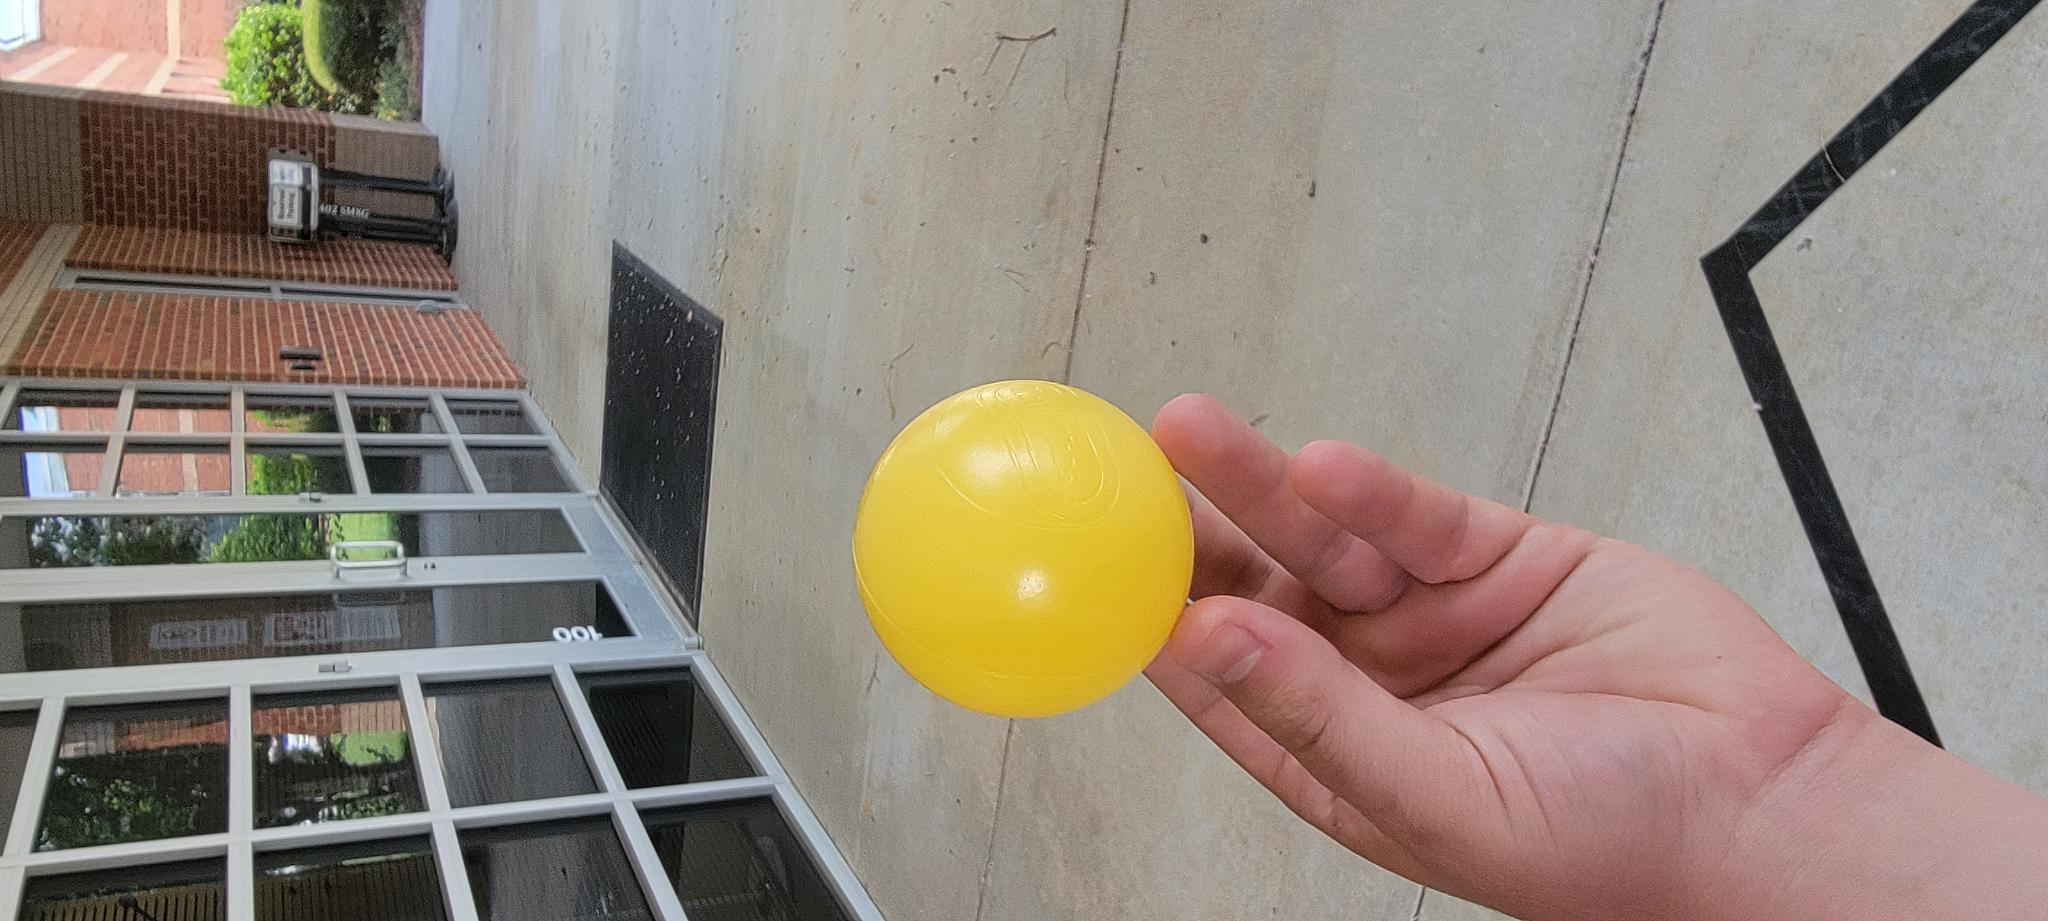Yellow-Ball: (206, 849, 539, 921)
